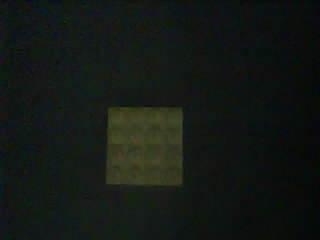lego: (104, 105, 185, 187)
